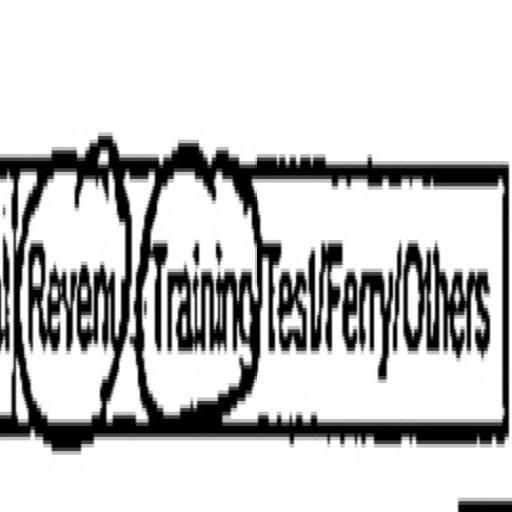check: (134, 82, 261, 466), (18, 86, 128, 512)
